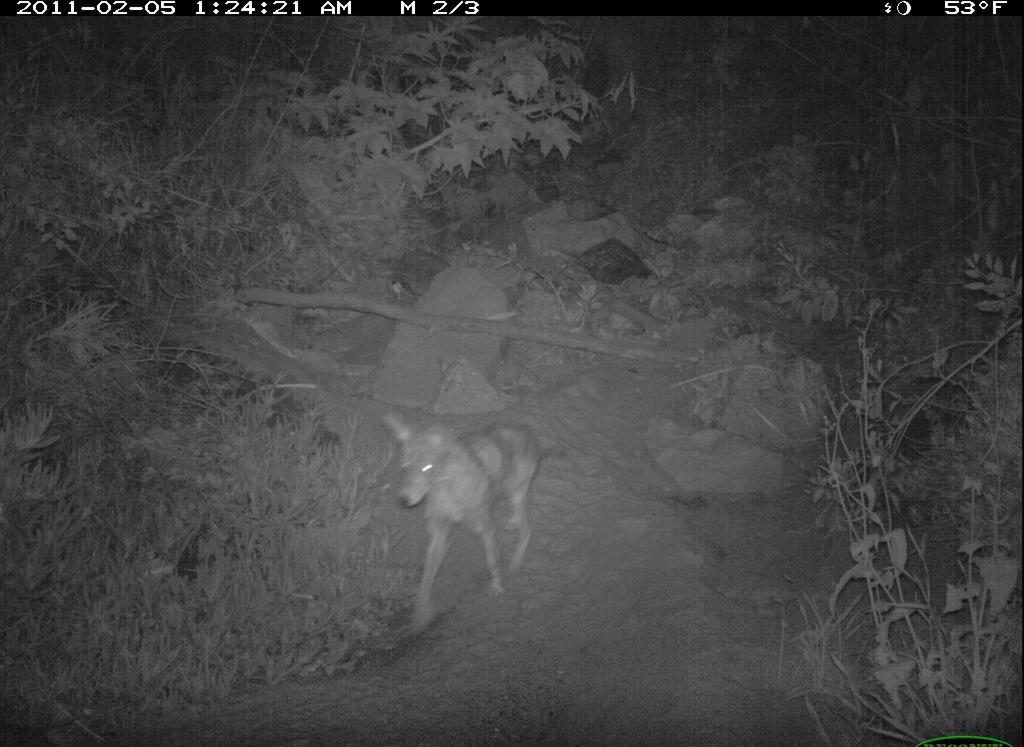coyote: (363, 399, 577, 630)
